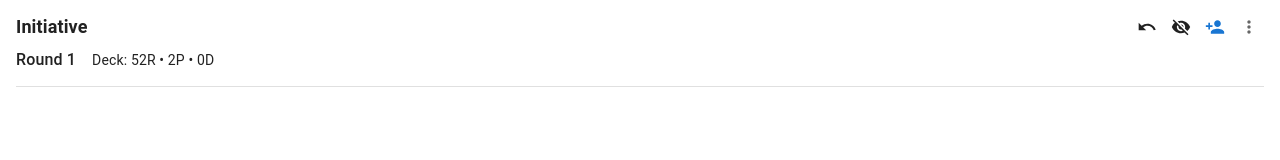
Scenario: HeaderBar actions › privacy toggle dispatches with a checkpoint
Click the button named "Disable privacy": click(1181, 27) [1166, 12, 1196, 42]
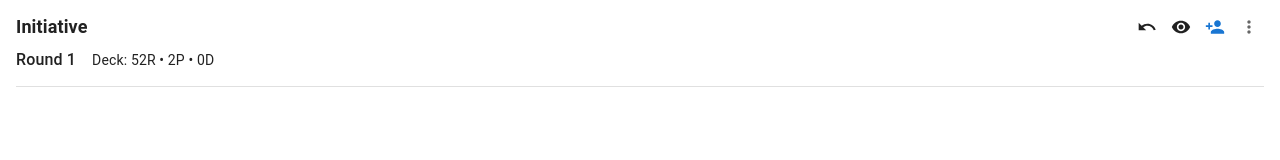
Now the button named "Enable privacy" is shown, box [1166, 12, 1196, 42]
